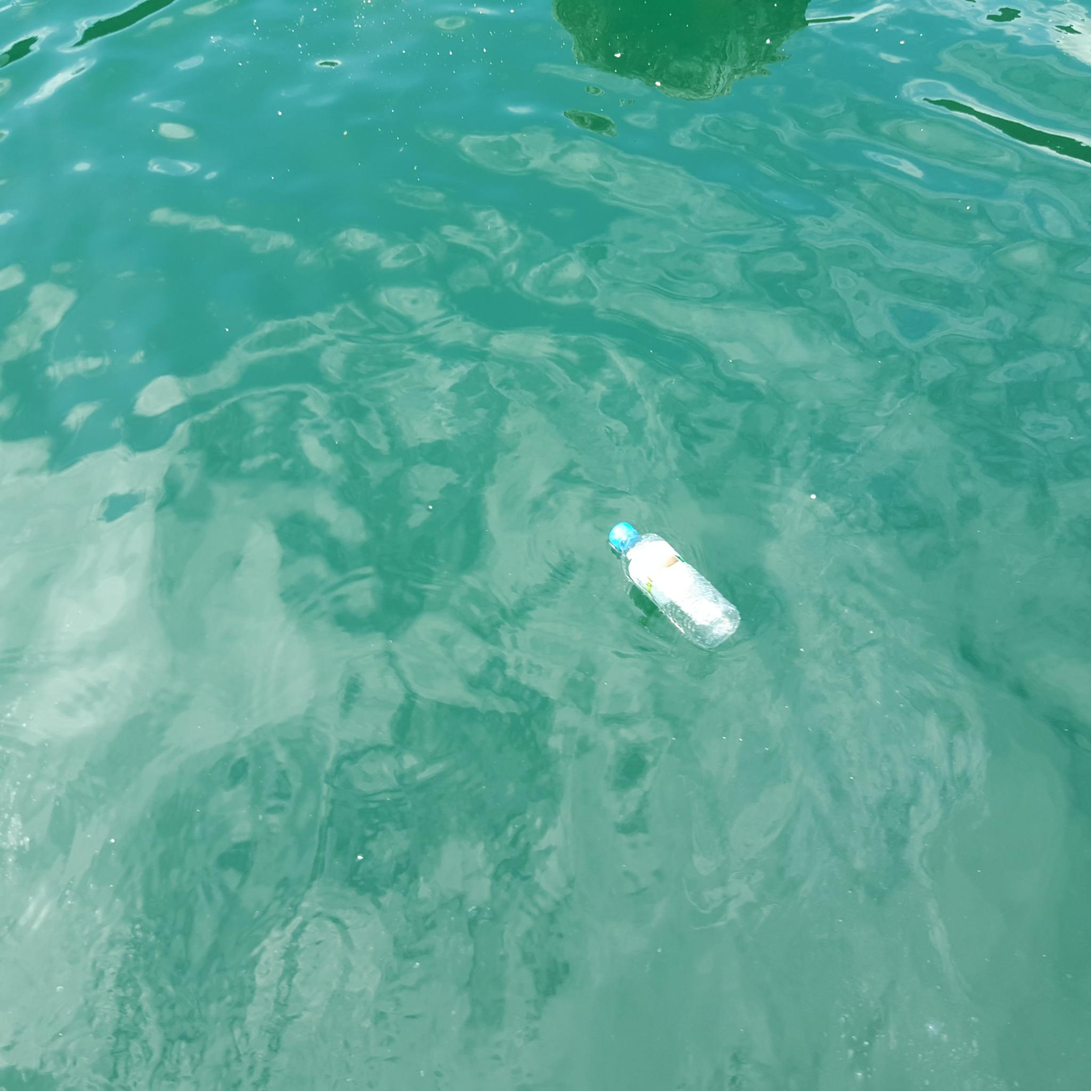sampah_terapung: (609, 523, 742, 650)
